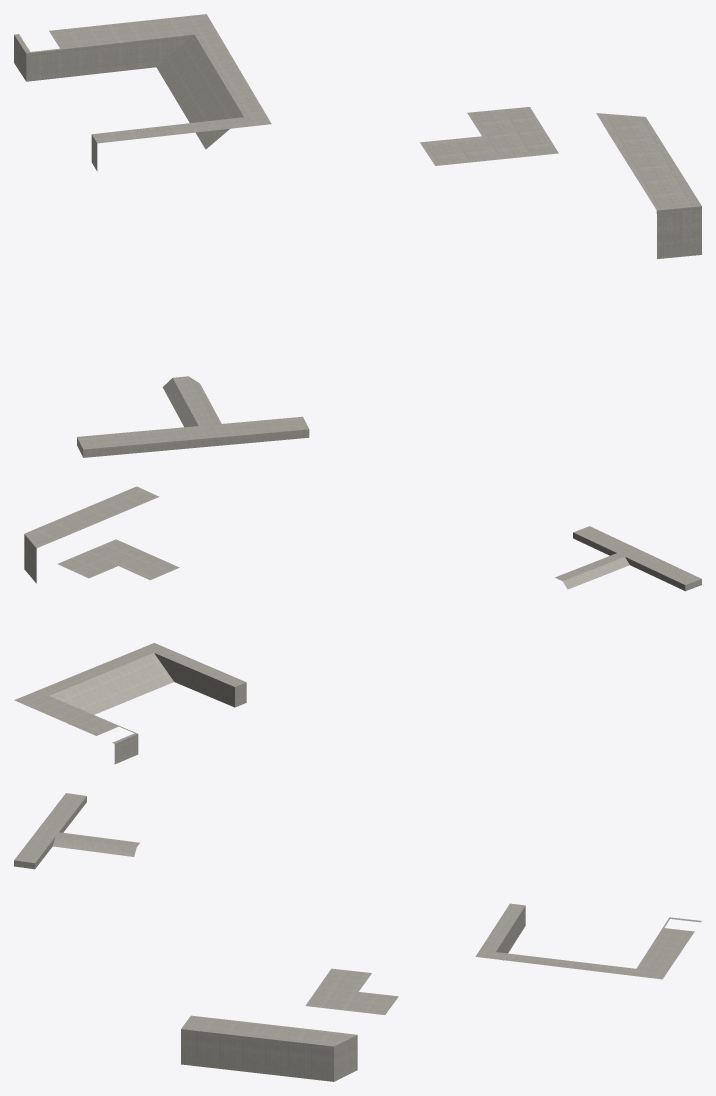
File: kd_stage_1366d7_4_1_bounded.glb
The picture shows the model from 3 angles, top to bottom: view 1: azimuth 30°, elevation 25°; view 2: azimuth 150°, elevation 25°; view 3: azimuth 270°, elevation 25°; orthographic projection. The views are drawn at different scales.
Visible parts, largest first — view 1: kd_stage_1366d7_4_1_bounded; view 2: kd_stage_1366d7_4_1_bounded; view 3: kd_stage_1366d7_4_1_bounded.
Part boxes in pixels (x1,y1,x2,y2): kd_stage_1366d7_4_1_bounded: (14, 14, 701, 457); kd_stage_1366d7_4_1_bounded: (14, 486, 701, 764); kd_stage_1366d7_4_1_bounded: (14, 793, 701, 1081).
Size of the model in its own units: 483 by 32.51 by 531.
Materials: 1 (1 with a texture image).
